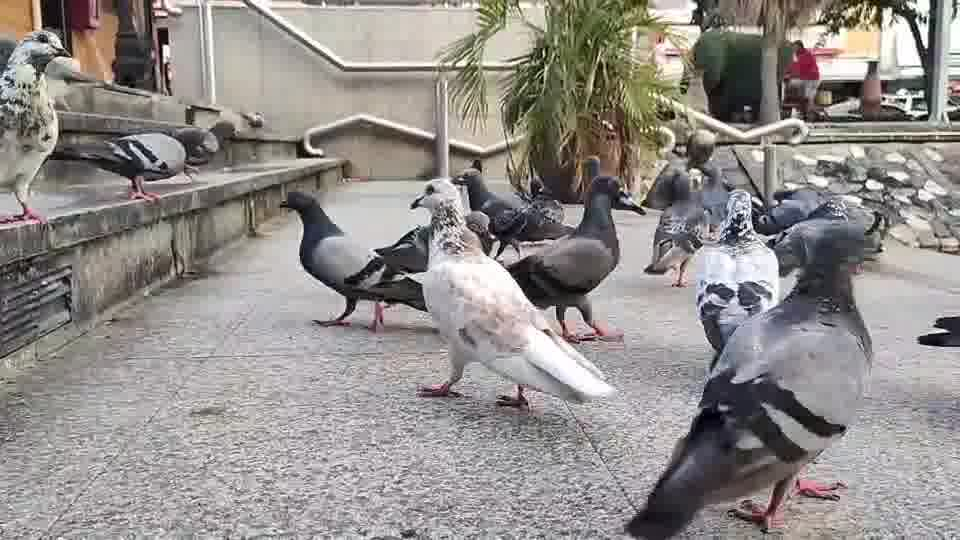Pigeon: (623, 212, 875, 538), (407, 180, 618, 412), (504, 174, 646, 343), (693, 189, 781, 371), (277, 189, 388, 330), (0, 28, 73, 227), (78, 130, 192, 202), (915, 314, 959, 347)
